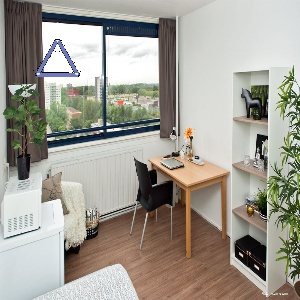triangle: (34, 37, 83, 79)
